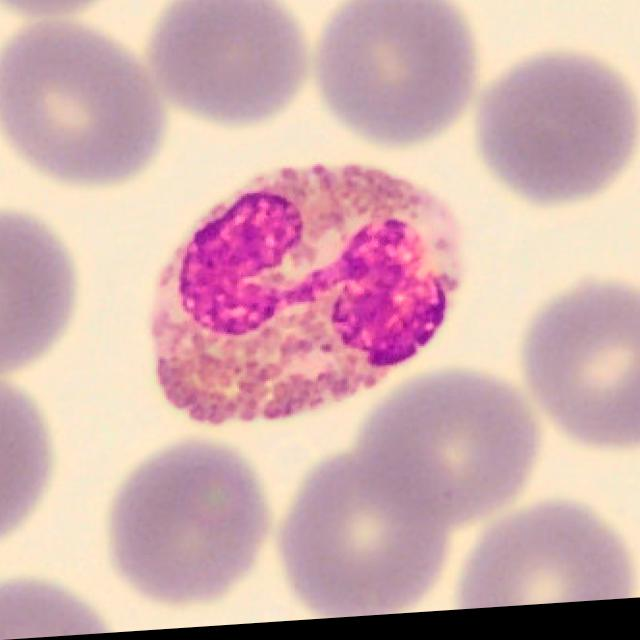Eosinofilo: (152, 168, 465, 431)
